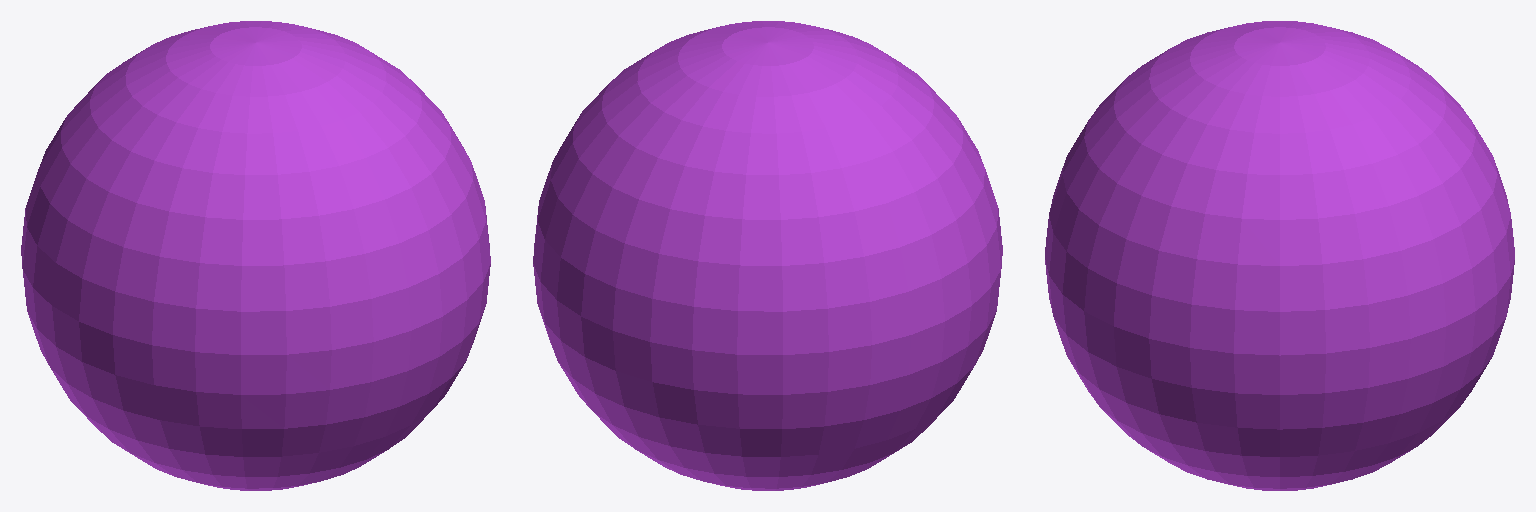
The model's file is Medkit.obj.
3 views of the same model, side by side, from view 1: azimuth 30°, elevation 25°; view 2: azimuth 150°, elevation 25°; view 3: azimuth 270°, elevation 25° (orthographic).
Parts seen in each view (by area): view 1: Sphere001; view 2: Sphere001; view 3: Sphere001.
Part boxes in pixels (x1,y1,x2,y2): Sphere001: (21,21,490,490); Sphere001: (533,21,1002,490); Sphere001: (1045,21,1514,490).
Size of the model in its own units: 14.09 by 14.09 by 14.09.